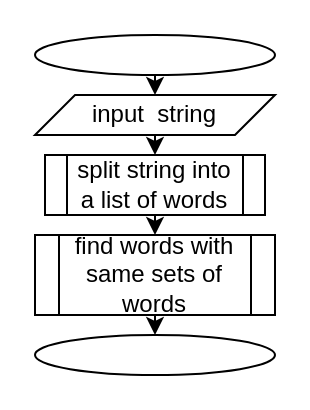
The diagram is 310 pixels wide and 410 high, and some of its shapes have lost their labels. Each missing label, with the centre of its shape:
"begin" belongs at point (154, 54).
"end" belongs at point (154, 354).
